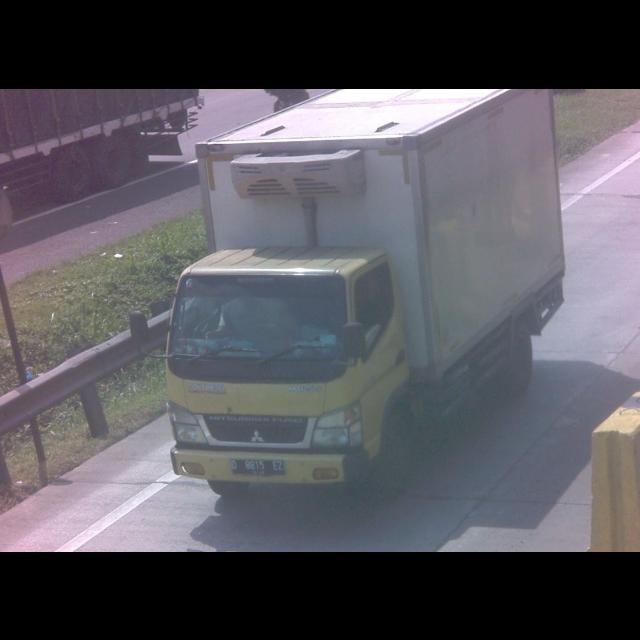plate: (226, 458, 284, 474)
